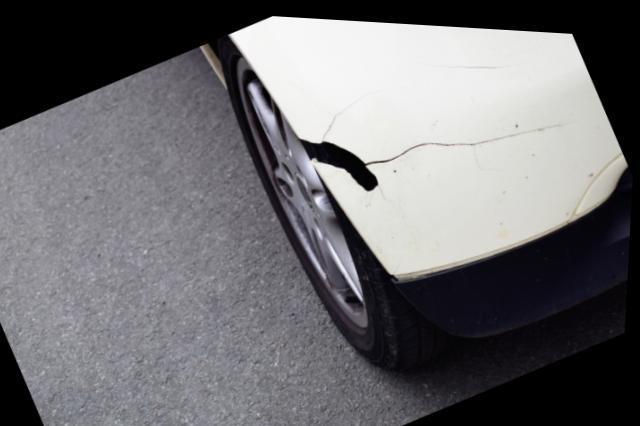crack: (300, 88, 571, 197)
